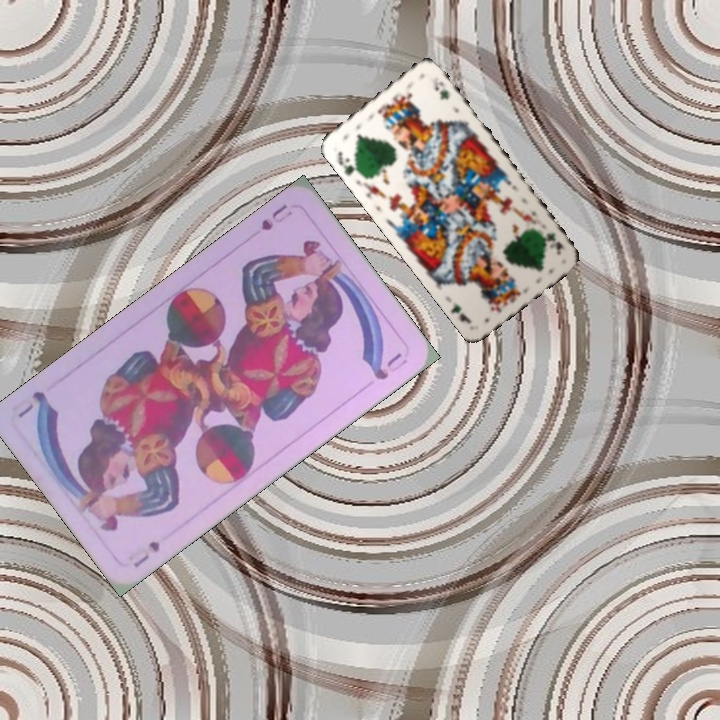GK: (333, 147, 362, 178), (542, 228, 567, 257)
SU: (257, 200, 295, 234), (129, 536, 163, 571)
